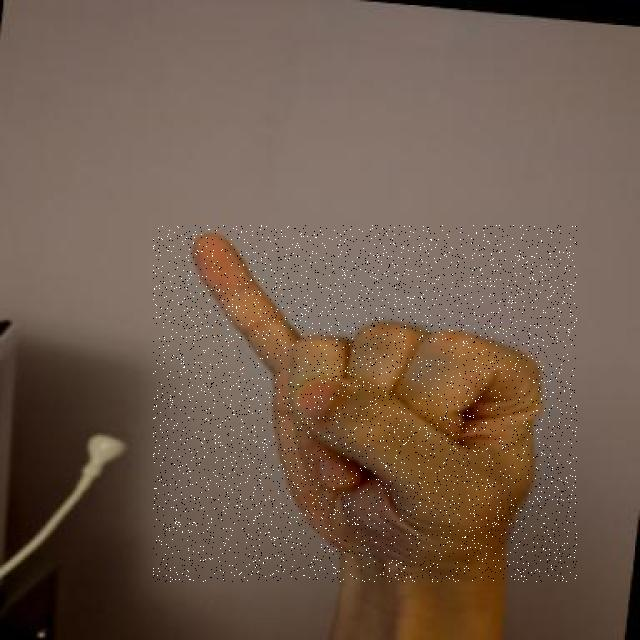I: (153, 225, 577, 582)
